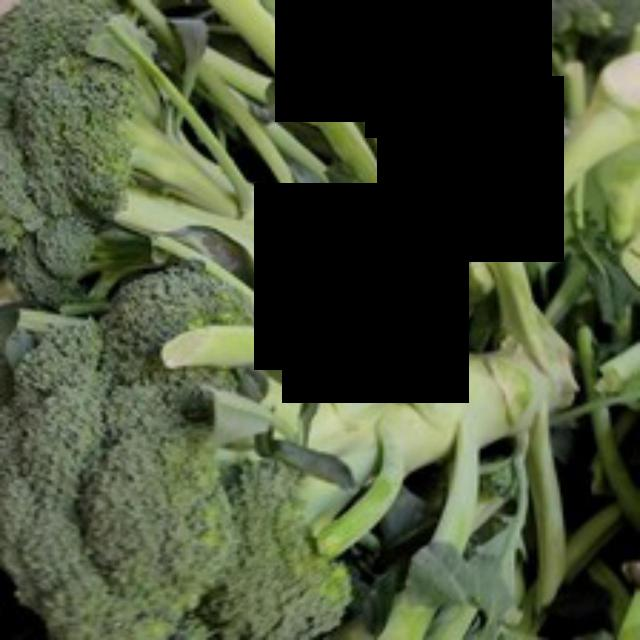broccoli: (11, 260, 414, 637)
